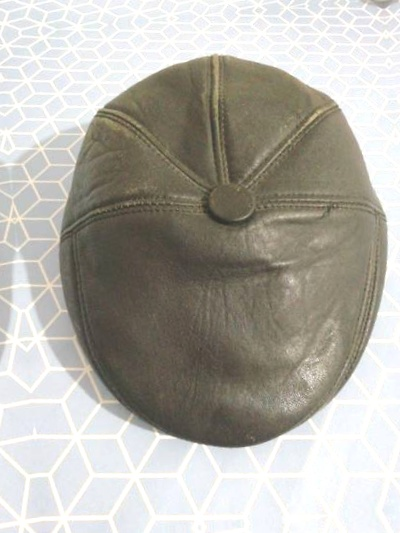Hat: (8, 24, 400, 476), (0, 60, 29, 511), (0, 0, 360, 10)
